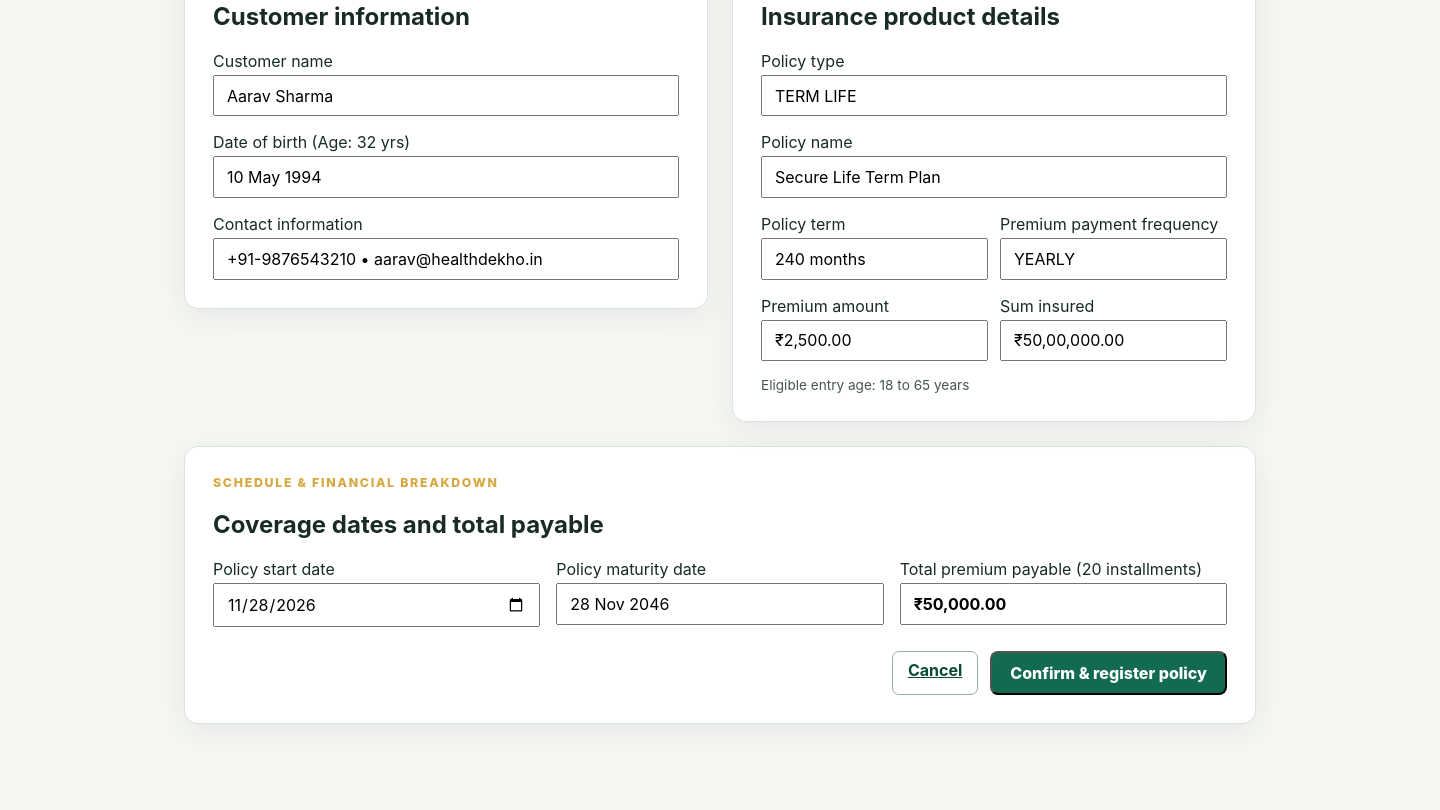
PolicyRegistrationPage › pre-populates customer and product fields and auto-calculates maturity date and total premium payable
(page scrolled)
Expected: the field labelled "Customer name" holds "Aarav Sharma", [213,75,679,116]
Expected: the field labelled "Contact information" holds "+91-9876543210 • aarav@healthdekho.in", [213,238,679,280]
# Change start date to 2026-12-01 and verify auto-calculated maturity date (2046-12-01)
Type "2026-12-01" into the date field labelled "Policy start date". click: coordinates (377, 605)
box: [213,583,540,627]
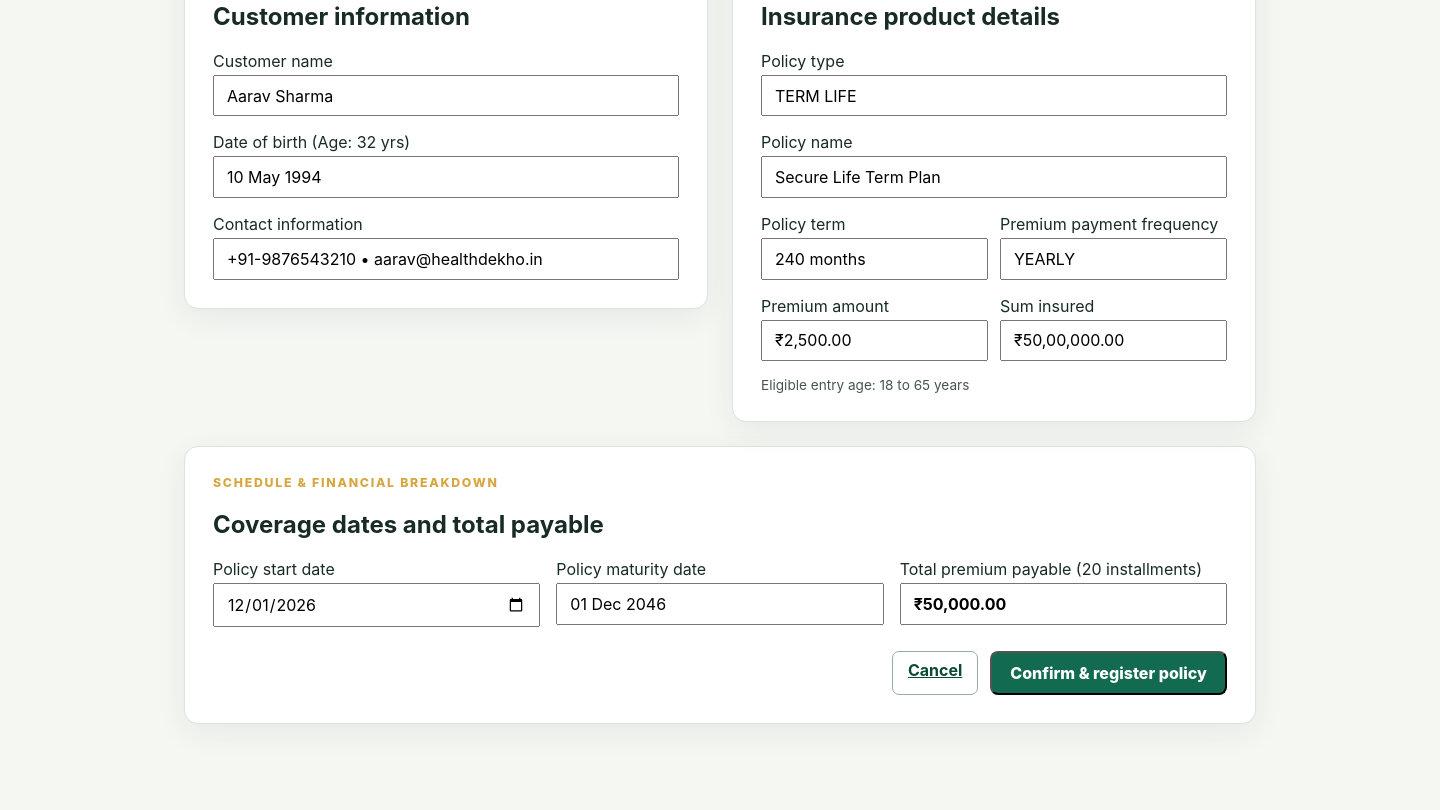
Expected: the field labelled "Total premium payable (20 installments)" holds "₹50,000.00", [900,583,1227,625]
Expected: the field labelled "Policy maturity date" holds "01 Dec 2046", [556,583,884,625]
